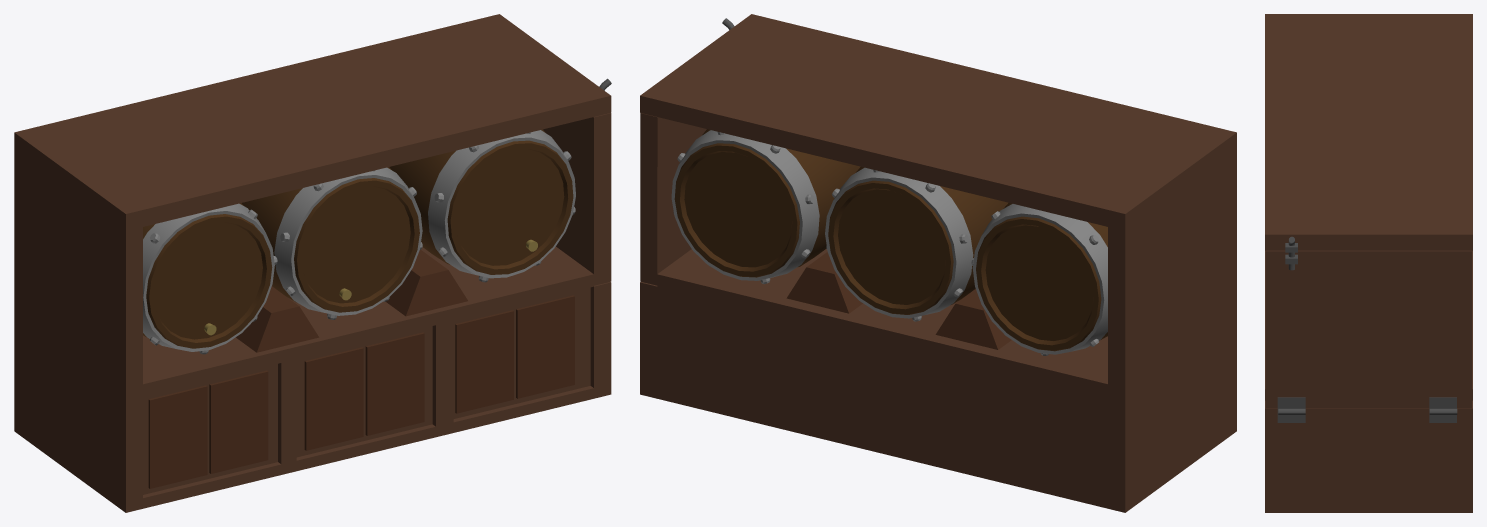
File: barrelHolder.fbx
3 views of the same model, side by side, from view 1: azimuth 30°, elevation 25°; view 2: azimuth 150°, elevation 25°; view 3: azimuth 270°, elevation 25° (orthographic). The views are drawn at different scales.
Visible parts, largest first — view 1: Barrel Holder; view 2: Barrel Holder; view 3: Barrel Holder.
Part boxes in pixels (x1,y1,x2,y2): Barrel Holder: (14, 14, 611, 512); Barrel Holder: (640, 14, 1236, 512); Barrel Holder: (1265, 14, 1472, 512).
Size of the model in its own units: 219 by 84.77 by 127.
